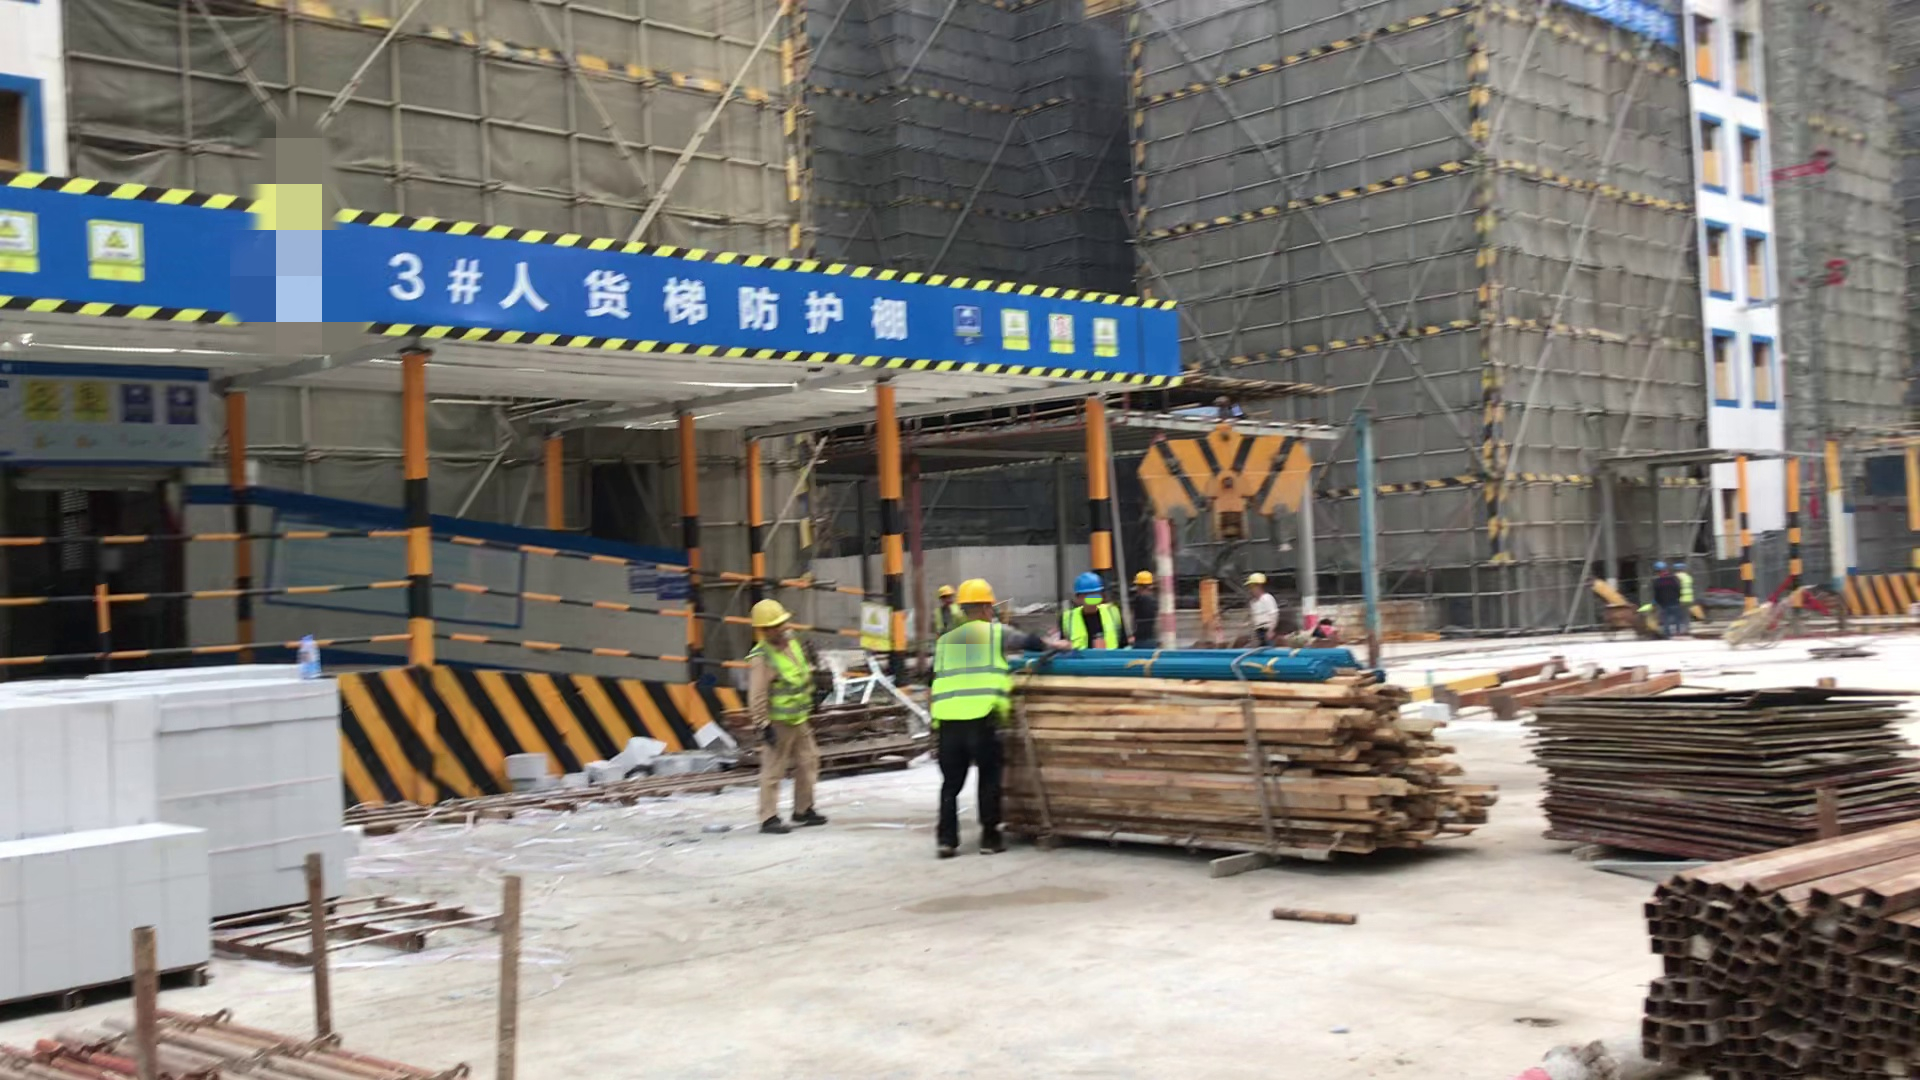board: (1538, 688, 1920, 850)
brick: (1, 684, 216, 993), (121, 670, 340, 904)
ebox: (1201, 579, 1221, 635)
handcart: (1724, 589, 1801, 645), (1604, 600, 1642, 635)
helmet: (751, 600, 791, 629), (955, 580, 994, 604), (1073, 572, 1103, 595), (1134, 570, 1155, 586), (1243, 573, 1267, 585), (937, 585, 952, 598)
hook: (1136, 400, 1317, 577)
person: (928, 580, 1016, 861), (746, 604, 828, 833), (1062, 576, 1129, 654), (1242, 573, 1279, 644), (1131, 570, 1159, 649), (1650, 562, 1673, 645), (1671, 561, 1696, 630), (935, 579, 961, 629)
scaffold: (1624, 816, 1920, 1077), (1, 1011, 466, 1080)
slogan: (948, 297, 1132, 365), (1, 211, 151, 289), (20, 380, 197, 434), (1566, 1, 1682, 46), (859, 601, 890, 651)
vest: (931, 626, 1012, 724), (758, 646, 817, 727), (1065, 607, 1116, 656), (1677, 574, 1694, 605)
wood: (1012, 670, 1496, 857)
